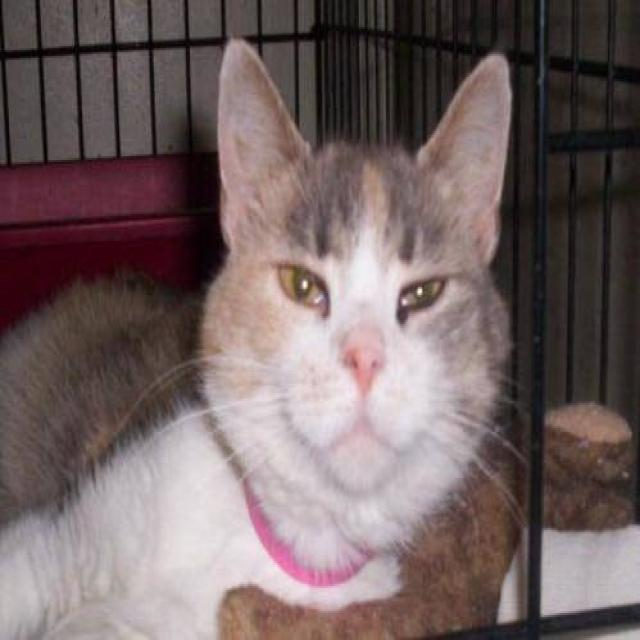cat: (0, 35, 527, 638)
